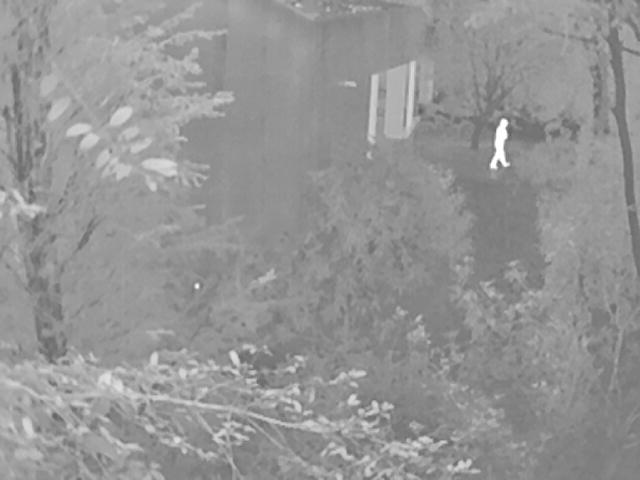person: (490, 117, 511, 169)
